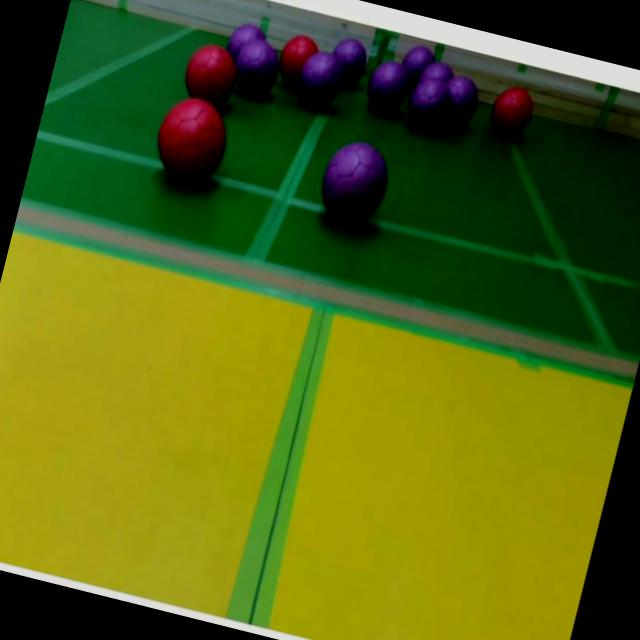purple_ball: (309, 136, 396, 242), (231, 38, 287, 106), (404, 76, 458, 138), (361, 58, 415, 120), (300, 52, 346, 107), (438, 73, 484, 125), (328, 36, 372, 90), (398, 44, 438, 88), (226, 22, 268, 62), (418, 55, 455, 91)
red_ball: (146, 91, 237, 194), (180, 38, 242, 104), (482, 82, 540, 148), (276, 34, 314, 92)
